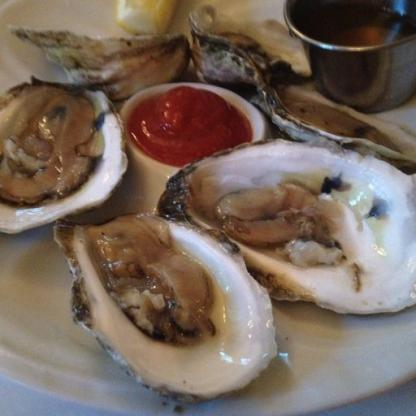oyster: (163, 137, 415, 318), (60, 212, 273, 401), (0, 80, 110, 224)
